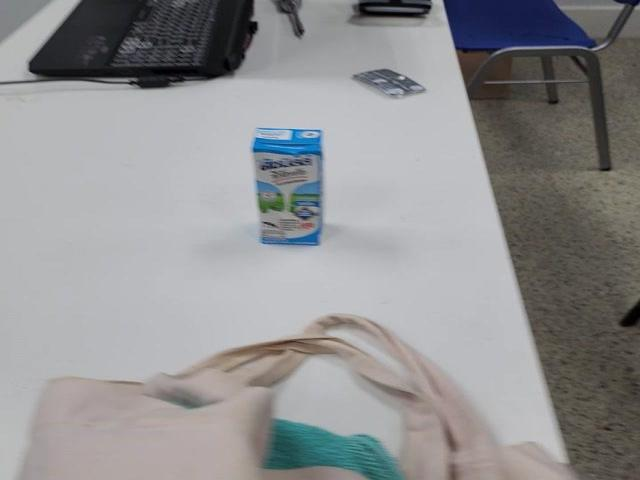drink_box: (238, 115, 338, 260)
